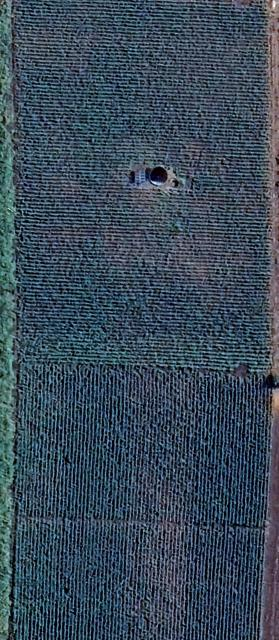Farms: (13, 1, 273, 372), (12, 366, 273, 529), (13, 519, 264, 640)
